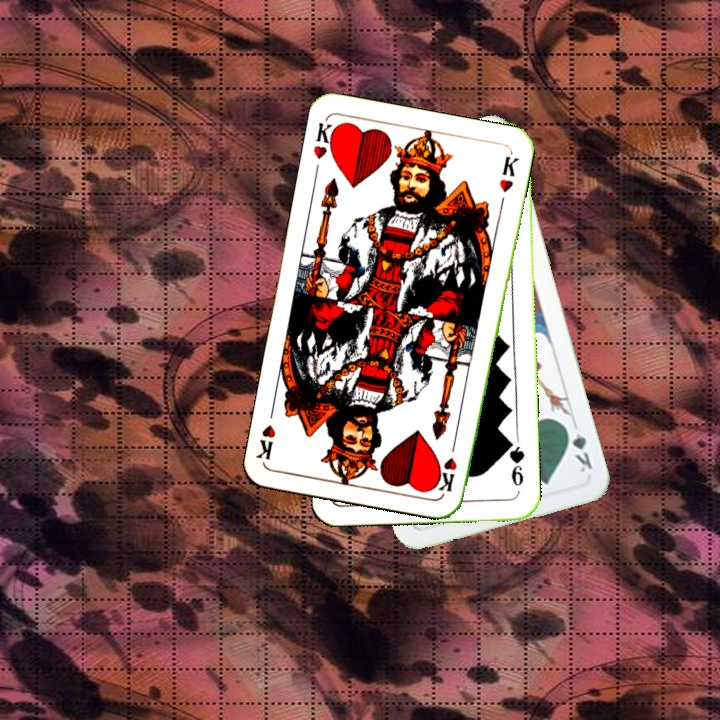G9: (503, 436, 527, 489)
GK: (561, 418, 595, 475)
HK: (435, 435, 460, 495), (309, 116, 341, 162)
